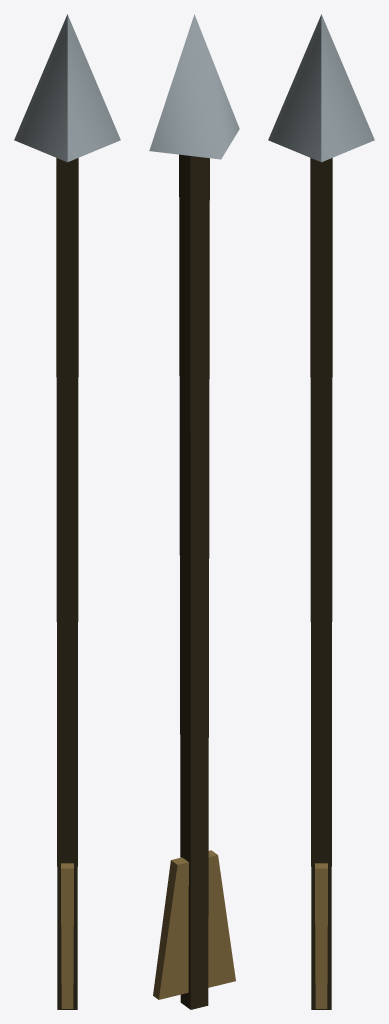
The model's file is Arrow 01.FBX.
The picture shows the model from 3 angles, left to right: view 1: azimuth 90°, elevation 25°; view 2: azimuth 210°, elevation 25°; view 3: azimuth 270°, elevation 25°; orthographic projection.
Parts seen in each view (by area): view 1: Arrow 01; view 2: Arrow 01; view 3: Arrow 01.
Part boxes in pixels (bbox=[...]): Arrow 01: bbox=[14, 14, 120, 1009]; Arrow 01: bbox=[149, 14, 239, 1009]; Arrow 01: bbox=[268, 14, 374, 1009].
Bounding box in the file's own units: 11.13 × 116 × 11.36.
